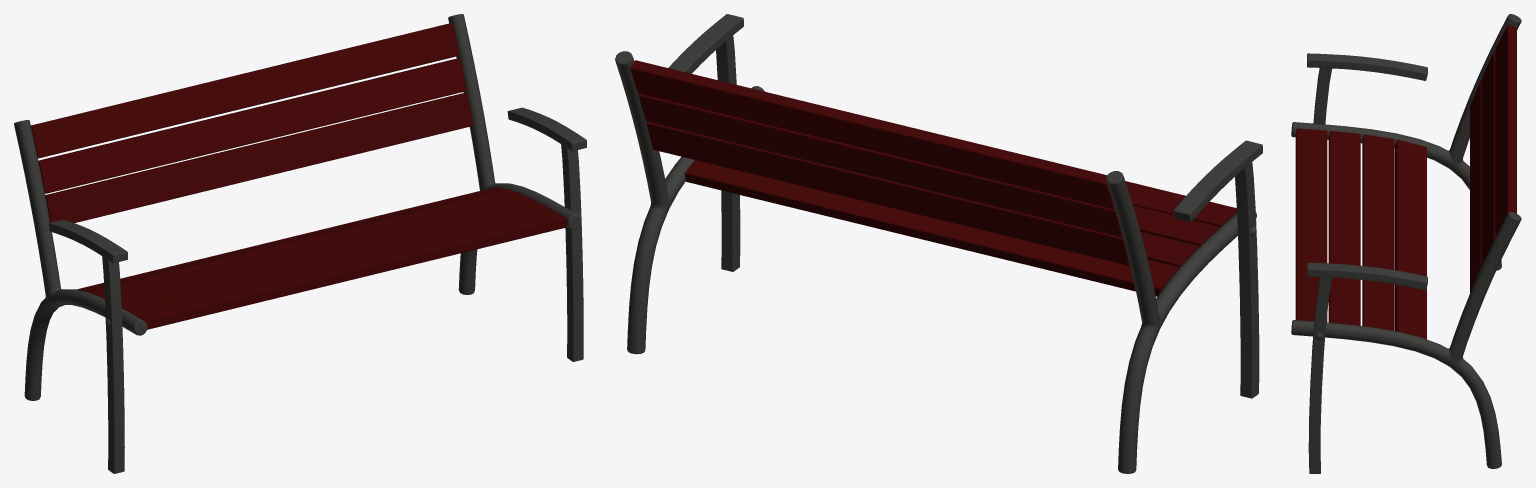
Rendered from bench_4.fbx.
The picture shows the model from 3 angles, left to right: view 1: azimuth 30°, elevation 25°; view 2: azimuth 150°, elevation 25°; view 3: azimuth 270°, elevation 25°; orthographic projection. The views are drawn at different scales.
Parts seen in each view (by area): view 1: bench_4; view 2: bench_4; view 3: bench_4.
Boxes of the visible parts, left/top/right/bottom form: bench_4: left=14, top=14, right=586, bottom=473; bench_4: left=615, top=14, right=1262, bottom=473; bench_4: left=1291, top=14, right=1521, bottom=473.
Bounding box in the file's own units: 174 × 95.36 × 78.51.
